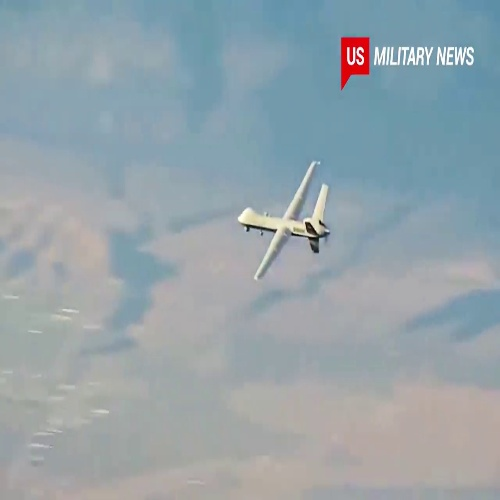uav: (235, 160, 334, 282)
